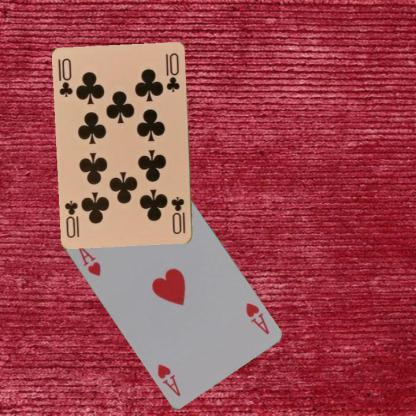10c: (168, 194, 187, 236), (56, 56, 74, 99)
Ah: (242, 300, 270, 336), (74, 243, 102, 278)
